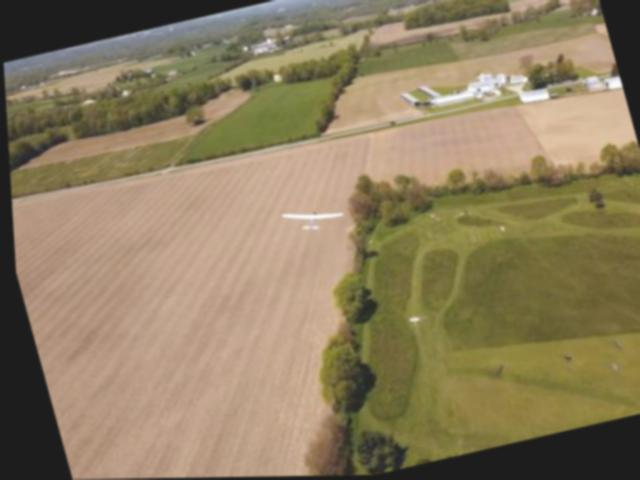uav: (268, 186, 354, 249)
